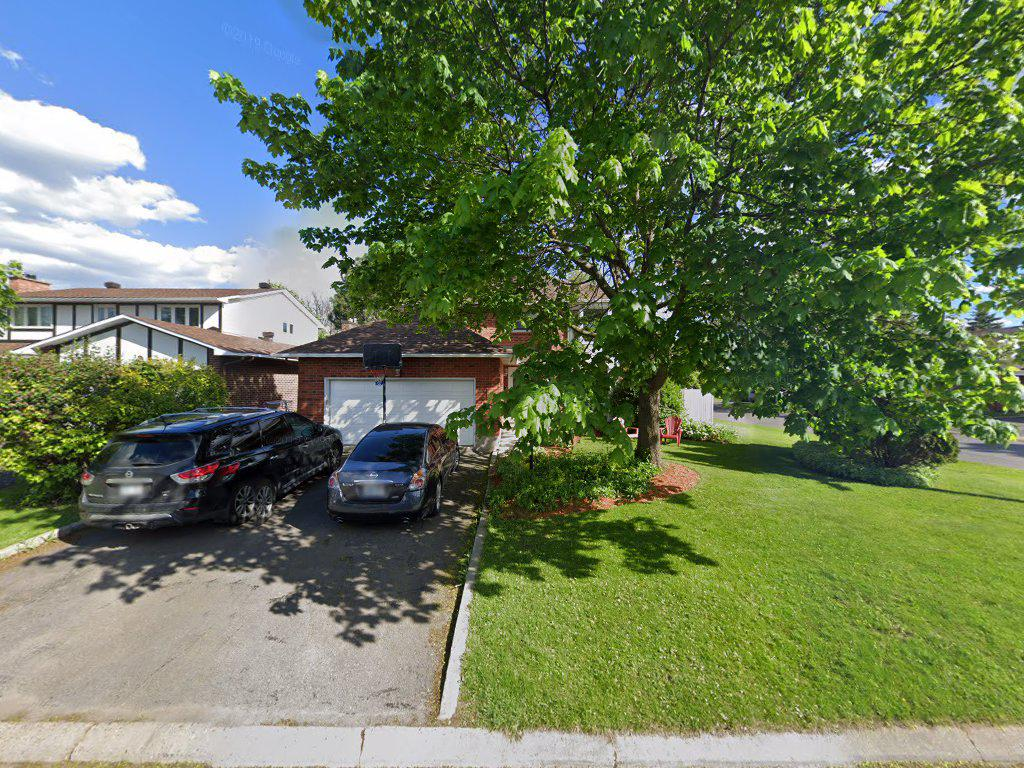trunk: (635, 370, 663, 472)
